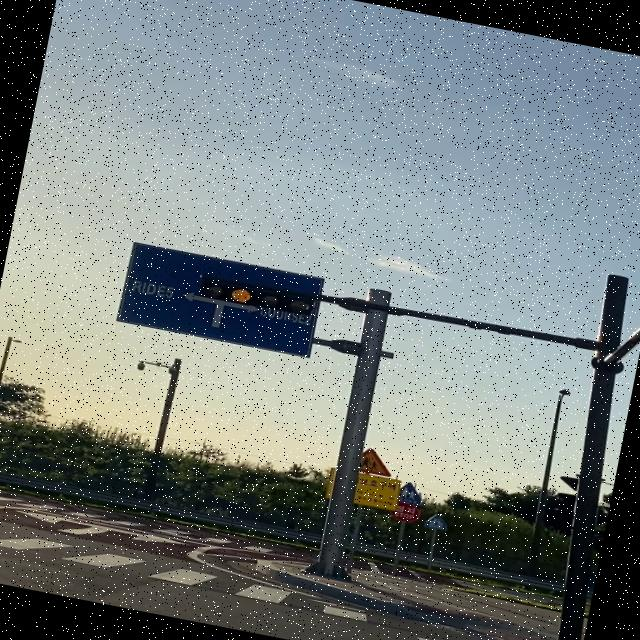yellow_light: (202, 279, 312, 315)
